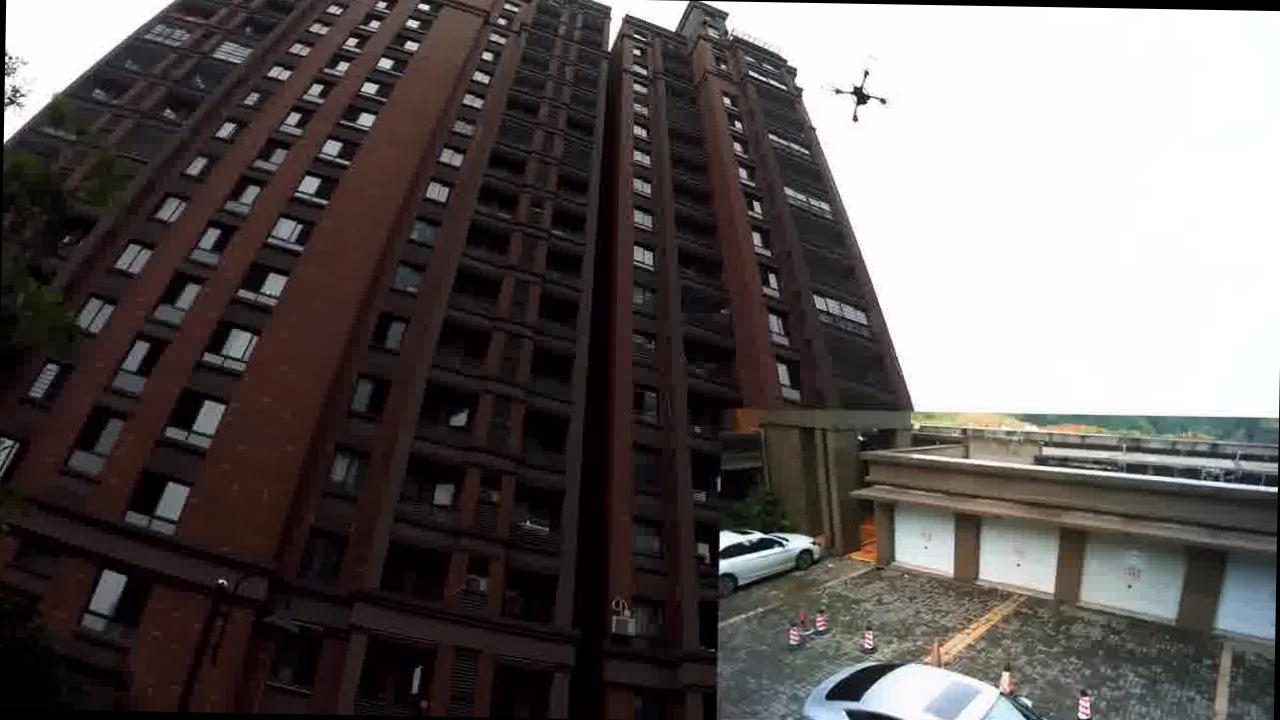drone: (824, 65, 890, 125)
